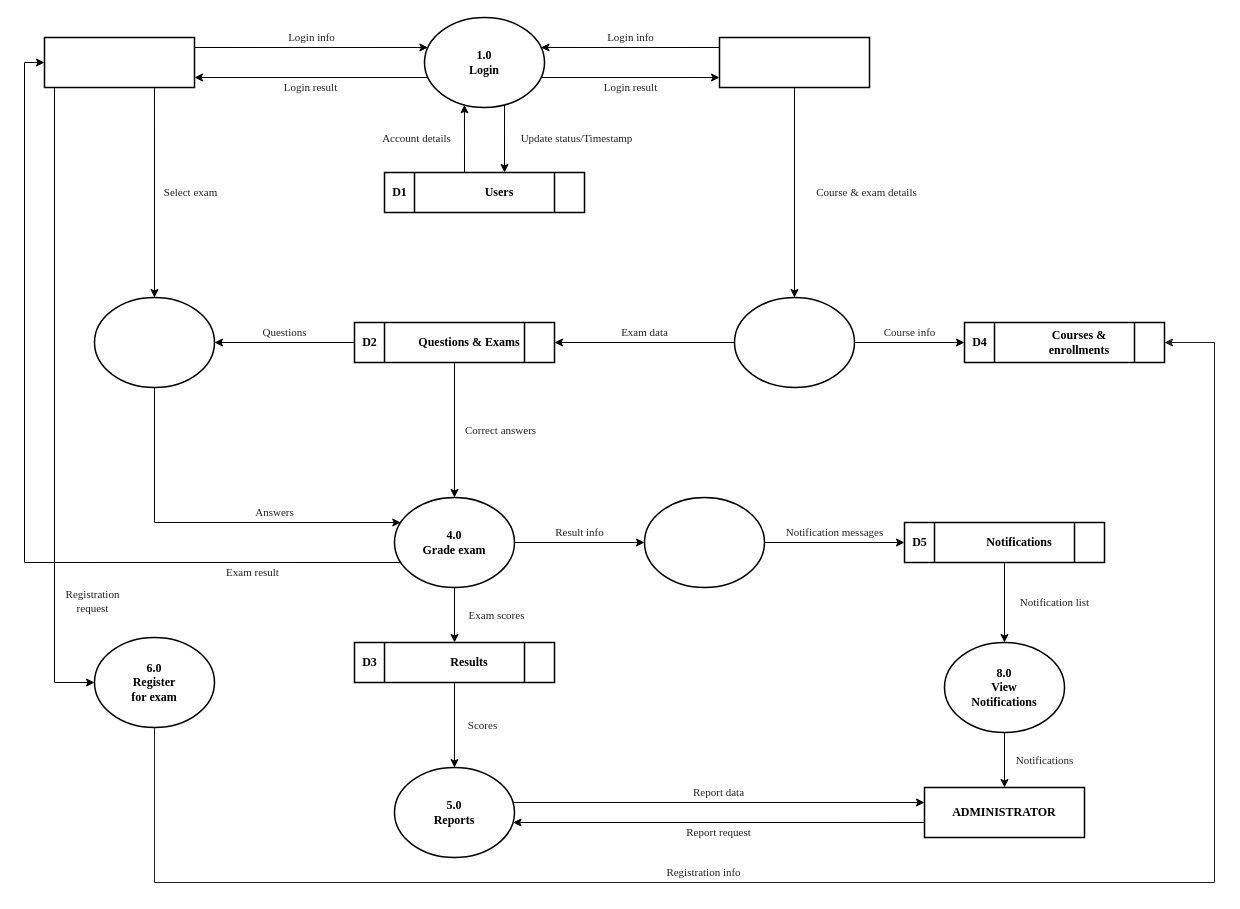
The diagram is 1240 pixels wide and 909 high, and some of its shapes have lost their labels. The shapes that lost their labels are listed below. From the top down, each one's centre as x and y in pixels, then its label:
(x=119, y=62): STUDENT
(x=794, y=62): TEACHER
(x=154, y=342): 3.0 Take exam
(x=794, y=342): 2.0 Manage exams
(x=704, y=542): 7.0 Send notifications
